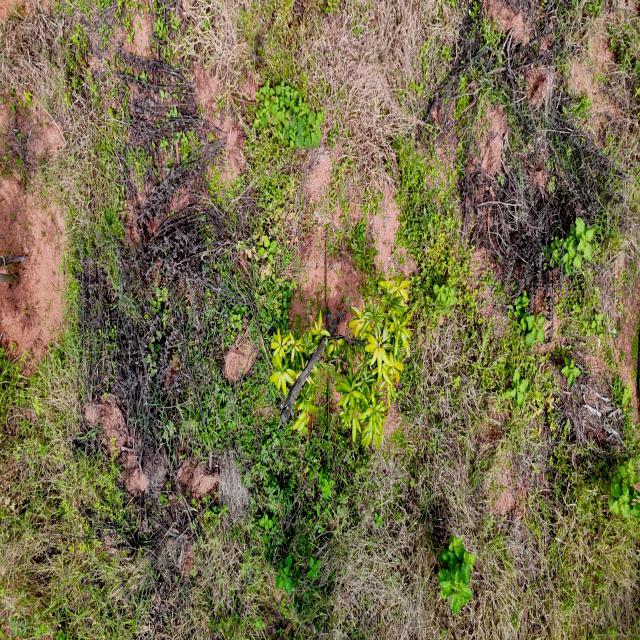mangoTree: (270, 274, 414, 450)
